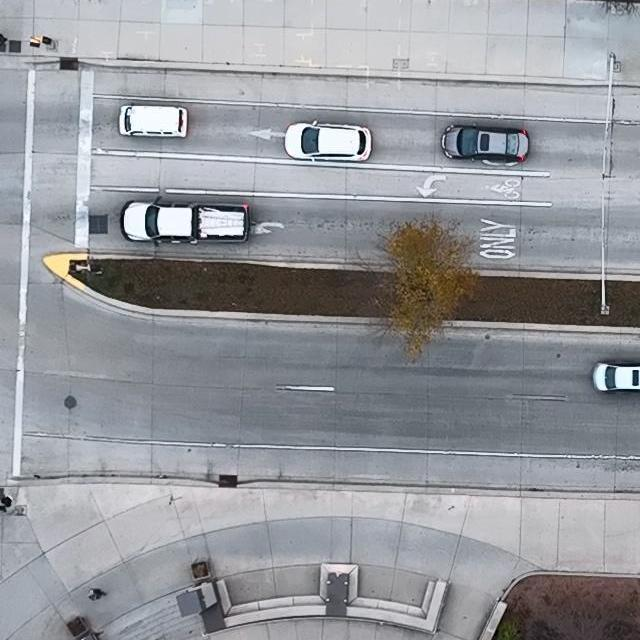car: (119, 194, 251, 247), (285, 119, 374, 163), (441, 122, 529, 163), (118, 104, 190, 138), (591, 360, 640, 393)
